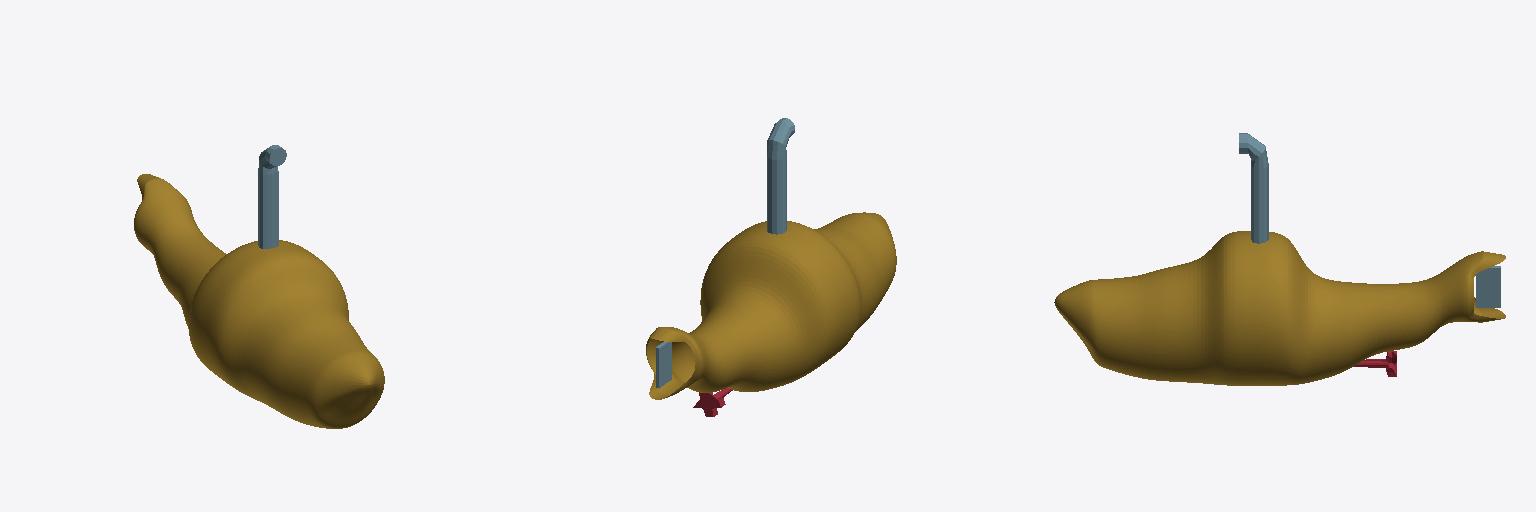
Rendered from submarine.obj.
3 renders of one model, left to right at view 1: azimuth 30°, elevation 25°; view 2: azimuth 150°, elevation 25°; view 3: azimuth 270°, elevation 25°, orthographic.
Parts seen in each view (by area): view 1: Submarine_Circle.001, rudder_Cylinder; view 2: Submarine_Circle.001, rudder_Cylinder, Cylinder_Cylinder.001; view 3: Submarine_Circle.001, rudder_Cylinder.
Boxes of the visible parts, x1,y1,x2,y2 form: Submarine_Circle.001: [134, 174, 384, 428]; rudder_Cylinder: [258, 145, 286, 248]; Submarine_Circle.001: [646, 212, 896, 399]; rudder_Cylinder: [656, 118, 794, 388]; Cylinder_Cylinder.001: [693, 388, 732, 416]; Submarine_Circle.001: [1054, 231, 1505, 385]; rudder_Cylinder: [1239, 133, 1500, 307].
Bounding box in the file's own units: 4.28 × 7.47 × 12.46.